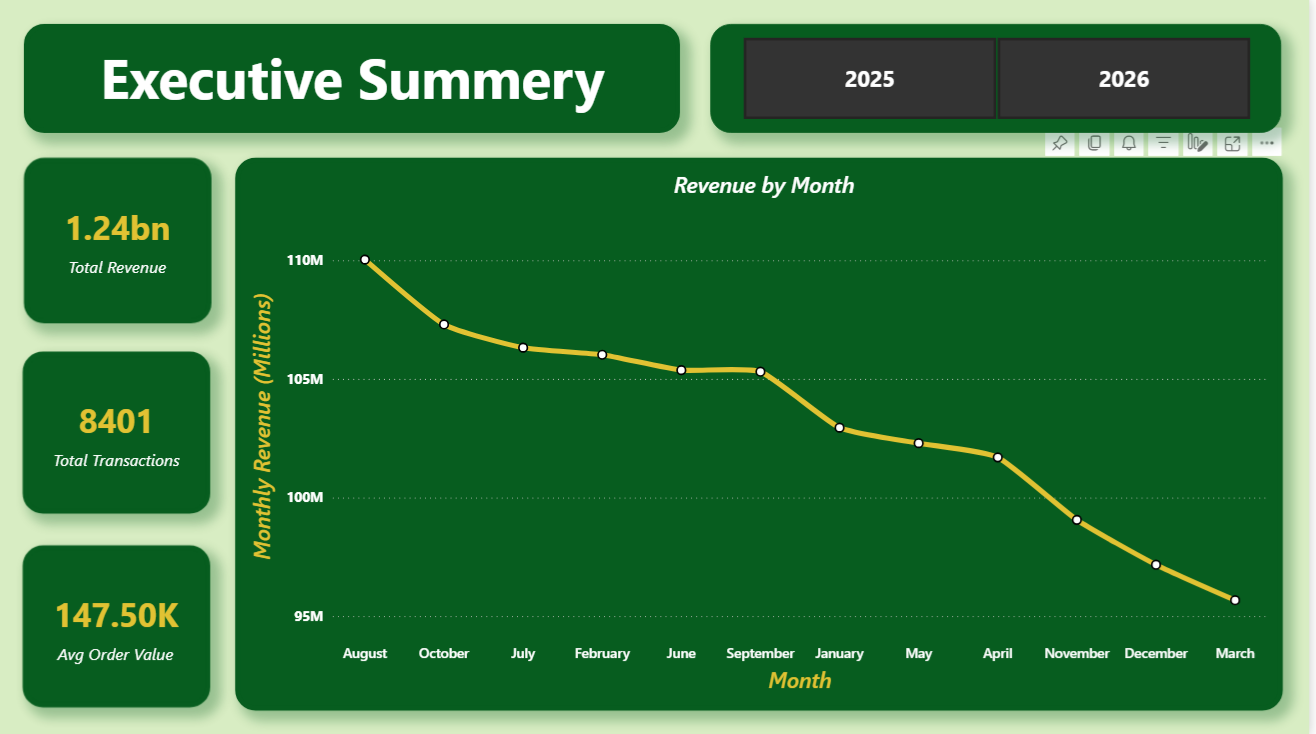

The page's visual inventory and layout, read from the dashboard file:
{"tool":"powerbi","page":{"name":"Summary","canvas":[1280,720],"ordinal":0},"visuals":[{"type":"lineChart","title":"Revenue by Month","fields":{"Category":["retail_silver.month_name"],"Y":["retail_silver.Total Revenue"]},"box":[230.2,154.8,1023.6,539.7],"z":0},{"type":"slicer","fields":{"Values":["retail_silver.year"]},"box":[694.5,24.7,558,106.6],"z":1000},{"type":"advanceCardE03760C5AB684758B56AA29F9E6C257B","fields":{"mainMeasure":["retail_silver.Avg Order Value"]},"box":[23.4,533.2,183.4,158.7],"z":2000},{"type":"advanceCardE03760C5AB684758B56AA29F9E6C257B","fields":{"mainMeasure":["retail_silver.Total Transactions"]},"box":[23.4,344.7,183.4,158.7],"z":3000},{"type":"advanceCardE03760C5AB684758B56AA29F9E6C257B","fields":{"mainMeasure":["retail_silver.Total Revenue"]},"box":[24.7,154.8,183.4,161.3],"z":4000},{"type":"textbox","box":[24.7,24.7,641.2,106.6],"z":5000}]}

Visuals, with their boxes in screenshot pixels (x1, y1, x2, y2):
"Revenue by Month" lineChart: [x1=233, y1=154, x2=1299, y2=716]
slicer - retail_silver.year: [x1=716, y1=19, x2=1298, y2=130]
advanceCardE03760C5AB684758B56AA29F9E6C257B - retail_silver.Avg Order Value: [x1=18, y1=548, x2=209, y2=714]
advanceCardE03760C5AB684758B56AA29F9E6C257B - retail_silver.Total Transactions: [x1=18, y1=352, x2=209, y2=517]
advanceCardE03760C5AB684758B56AA29F9E6C257B - retail_silver.Total Revenue: [x1=19, y1=154, x2=210, y2=322]
textbox: [x1=19, y1=19, x2=687, y2=130]
